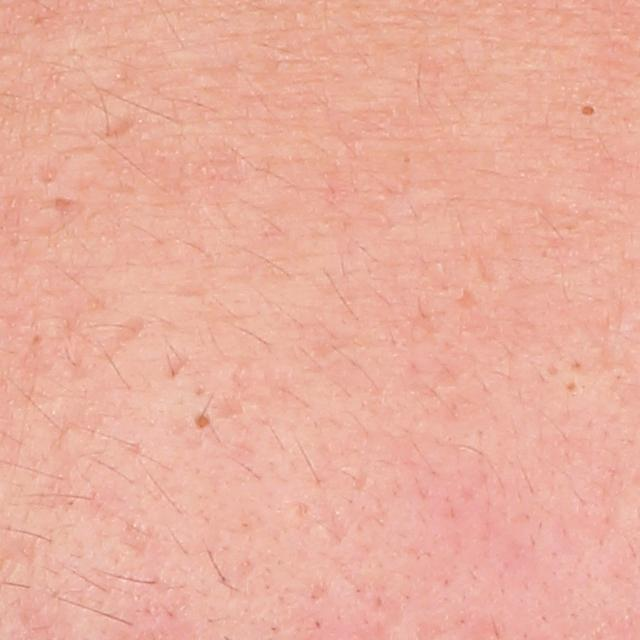atrophic_scar: (207, 366, 283, 420), (159, 348, 197, 378), (475, 243, 502, 285), (458, 287, 481, 310), (54, 196, 75, 213)
comedo: (186, 406, 218, 441), (577, 98, 604, 123)
